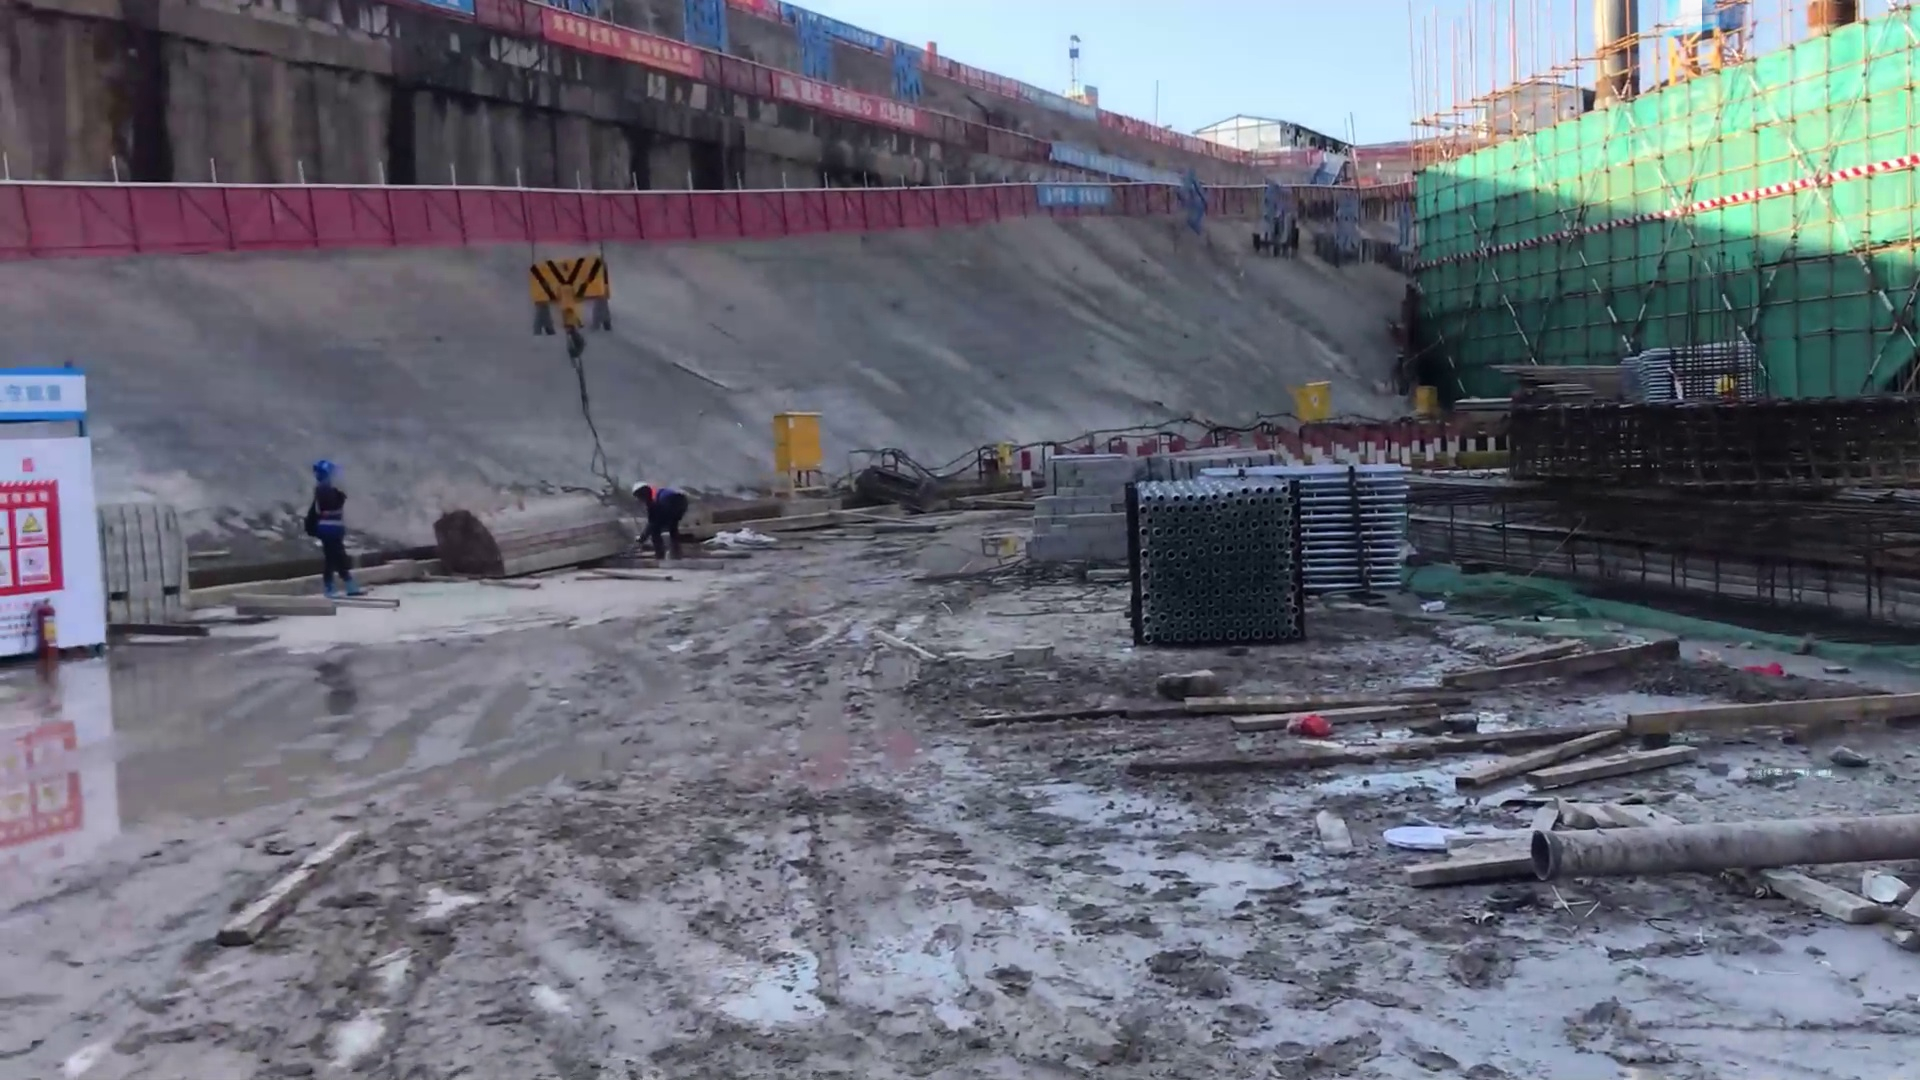brick: (92, 493, 188, 623)
ebox: (768, 409, 828, 476), (1297, 382, 1346, 429), (1406, 381, 1444, 416)
fence: (7, 172, 1006, 248)
helmet: (291, 450, 357, 492)
hook: (511, 224, 632, 349)
person: (293, 459, 366, 596), (627, 478, 691, 563)
scaffold: (1110, 482, 1281, 657), (1263, 467, 1406, 589)
slogan: (14, 511, 43, 544)
vest: (309, 492, 340, 534)
wood: (433, 474, 628, 586)
